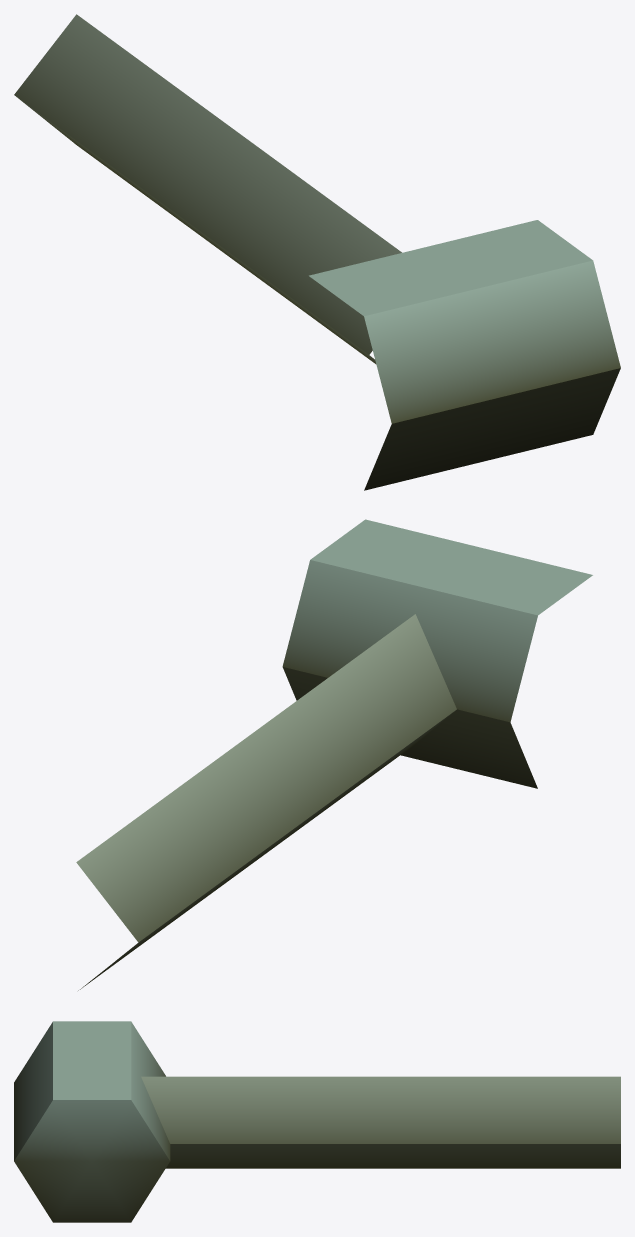
Rendered from FootholdRight.gltf.
3 renders of one model, top to bottom at view 1: azimuth 30°, elevation 25°; view 2: azimuth 150°, elevation 25°; view 3: azimuth 270°, elevation 25°, orthographic. The views are drawn at different scales.
Visible parts, largest first — view 1: FootholdRightMesh; view 2: FootholdRightMesh; view 3: FootholdRightMesh.
Part boxes in pixels (box(x1,y1,x2,y2)): FootholdRightMesh: box(14, 14, 620, 490); FootholdRightMesh: box(76, 519, 592, 990); FootholdRightMesh: box(14, 1021, 620, 1222).
Bounding box in the file's own units: 0.1988 × 0.1445 × 0.648.
